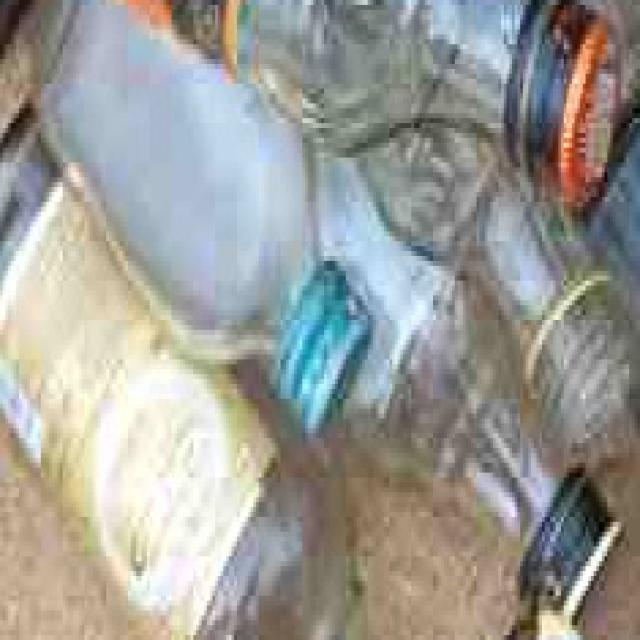kim_loai: (507, 0, 621, 217), (523, 473, 626, 640), (281, 261, 370, 438)
thuy_tinh: (0, 118, 343, 640), (362, 118, 640, 470), (44, 5, 305, 357), (259, 0, 523, 155)
